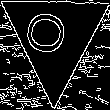O_E: (31, 15, 78, 60)
